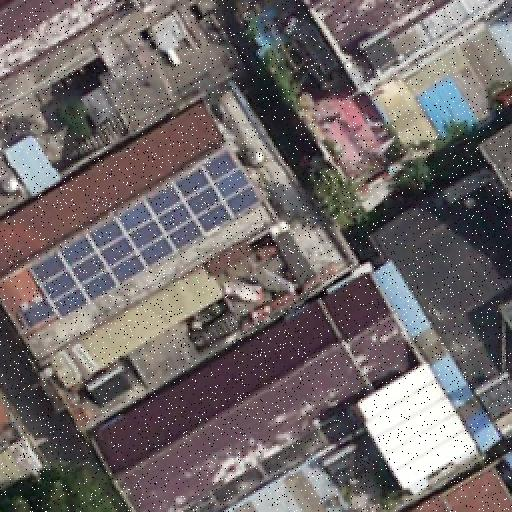solar-panel: (10, 146, 264, 324)
